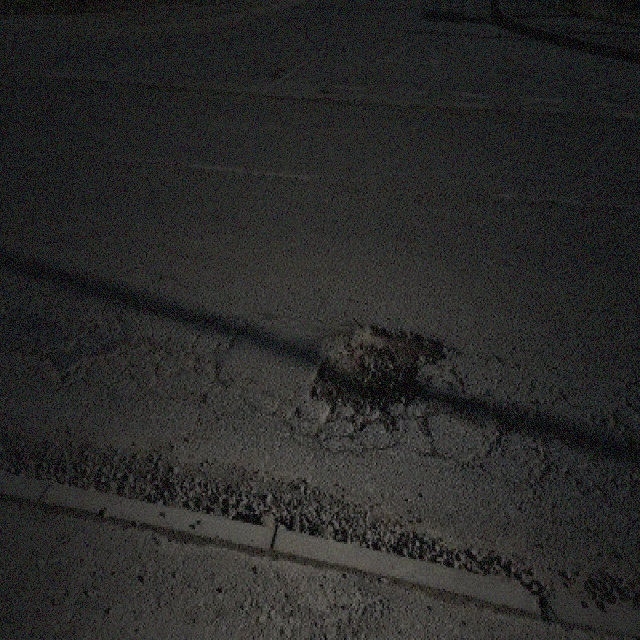pothole: (303, 320, 452, 427)
